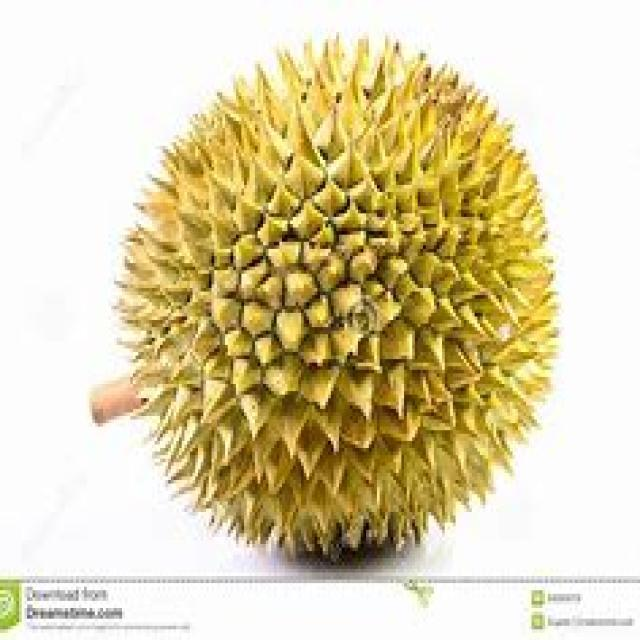mature: (91, 41, 556, 558)
